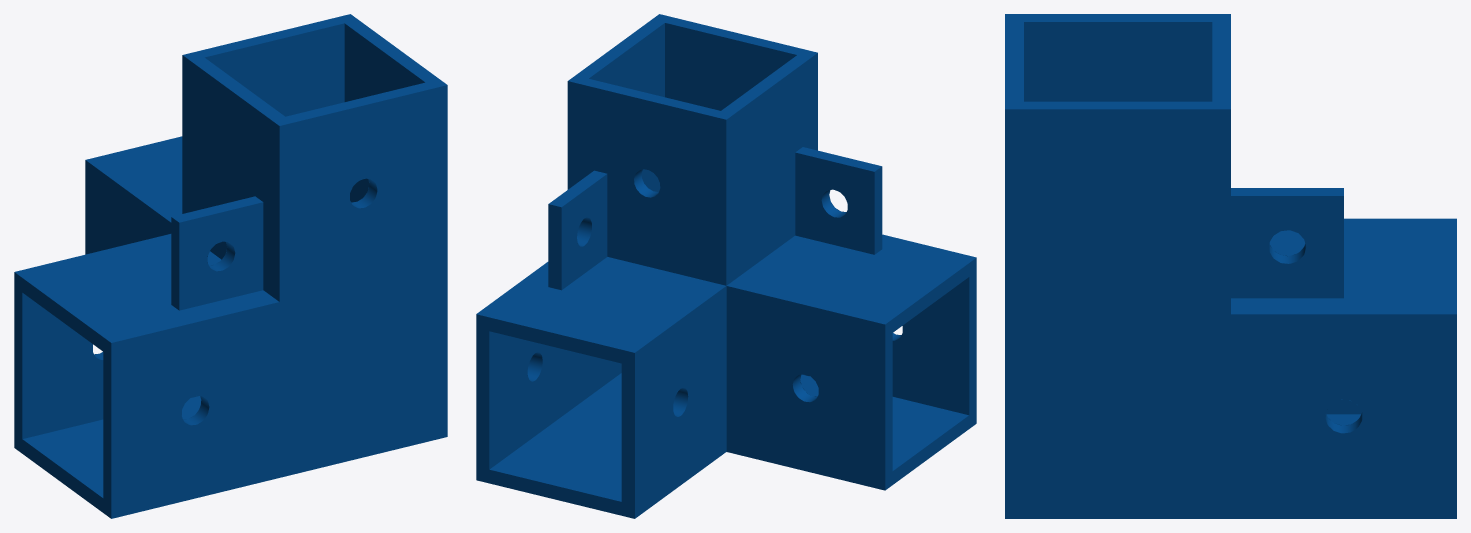
File: 101 Gates Detail Conector.obj
3 views of the same model, side by side, from view 1: azimuth 30°, elevation 25°; view 2: azimuth 150°, elevation 25°; view 3: azimuth 270°, elevation 25° (orthographic). The views are drawn at different scales.
Parts seen in each view (by area): view 1: object_1; view 2: object_1; view 3: object_1.
Part boxes in pixels (x1,y1,x2,y2): object_1: (14, 14, 447, 518); object_1: (476, 14, 976, 518); object_1: (1005, 14, 1456, 518).
Size of the model in its own units: 12 by 12 by 12.
